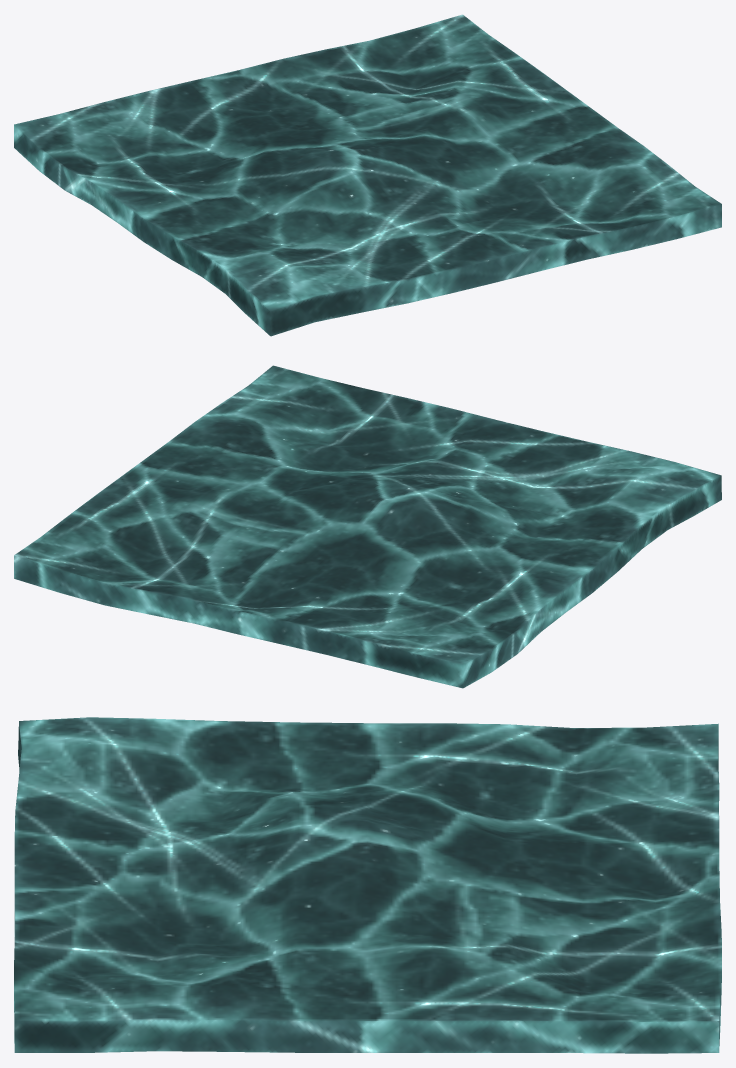
Rendered from DropOffArea.fbx.
3 views of the same model, one above another, from view 1: azimuth 30°, elevation 25°; view 2: azimuth 150°, elevation 25°; view 3: azimuth 270°, elevation 25° (orthographic). The views are drawn at different scales.
Visible parts, largest first — view 1: pCube1; view 2: pCube1; view 3: pCube1.
Part boxes in pixels (x1,y1,x2,y2): pCube1: [14, 14, 721, 336]; pCube1: [14, 365, 721, 688]; pCube1: [14, 717, 721, 1053].
Size of the model in its own units: 4.02 by 0.4909 by 4.02.
Materials: 1 (1 with a texture image).
